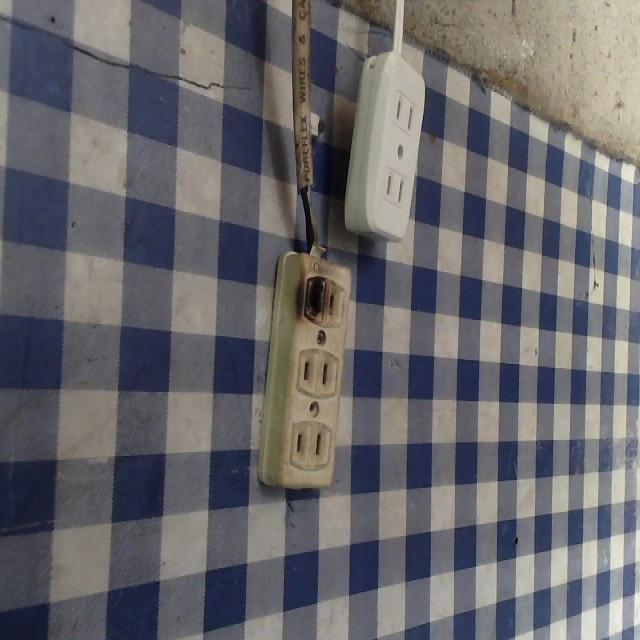-: (295, 256, 329, 331)
